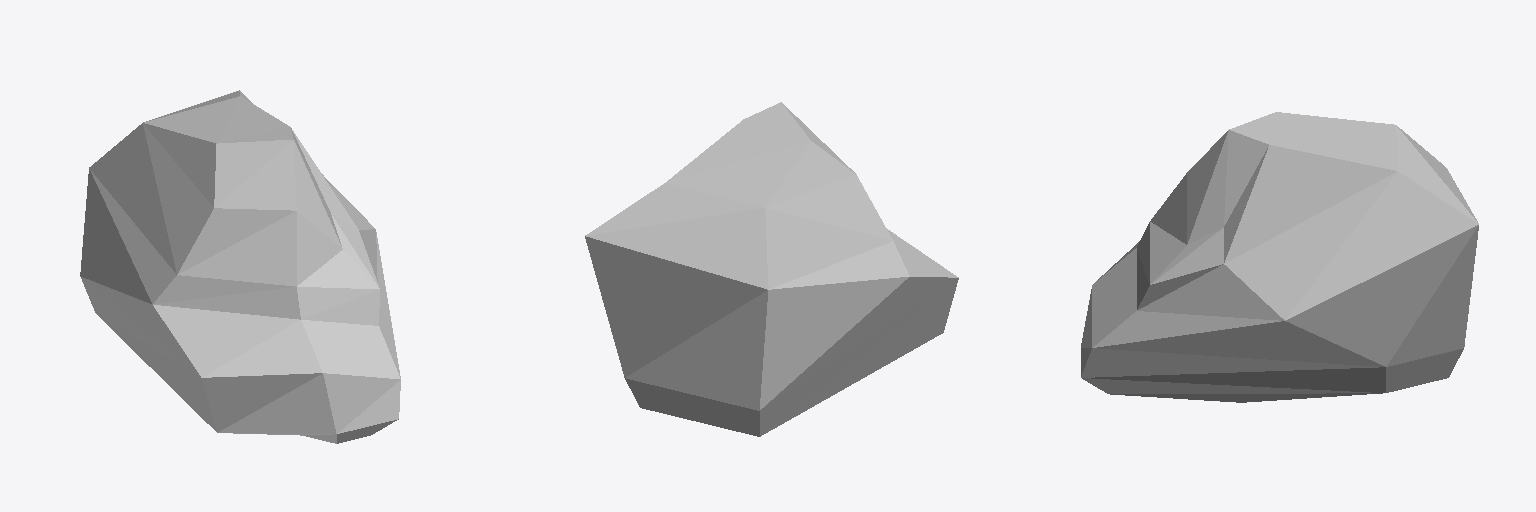
File: Rockdark.obj
3 renders of one model, left to right at view 1: azimuth 30°, elevation 25°; view 2: azimuth 150°, elevation 25°; view 3: azimuth 270°, elevation 25°, orthographic.
Parts seen in each view (by area): view 1: pasted__pasted__pSphere5 pasted__group63 group64; view 2: pasted__pasted__pSphere5 pasted__group63 group64; view 3: pasted__pasted__pSphere5 pasted__group63 group64.
Boxes of the visible parts, <box> form: pasted__pasted__pSphere5 pasted__group63 group64: <box>80,90,400,443</box>; pasted__pasted__pSphere5 pasted__group63 group64: <box>585,102,958,436</box>; pasted__pasted__pSphere5 pasted__group63 group64: <box>1081,112,1478,402</box>.
Size of the model in its own units: 3.07 by 3.16 by 4.32.